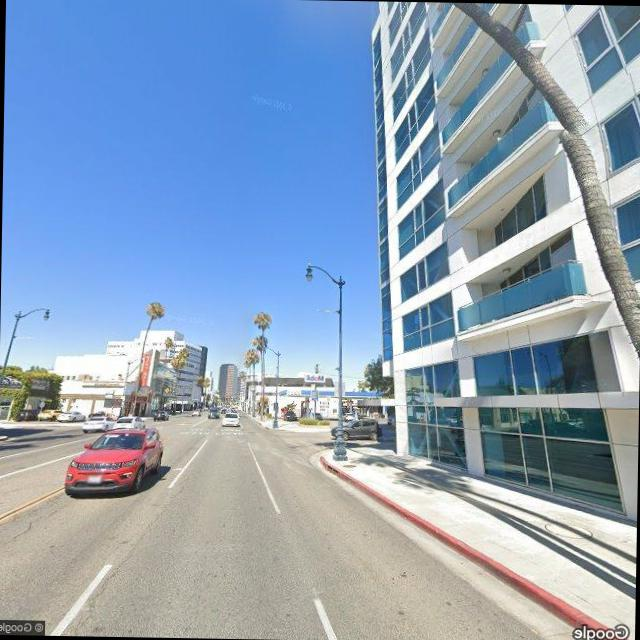pothole: (11, 498, 64, 542)
